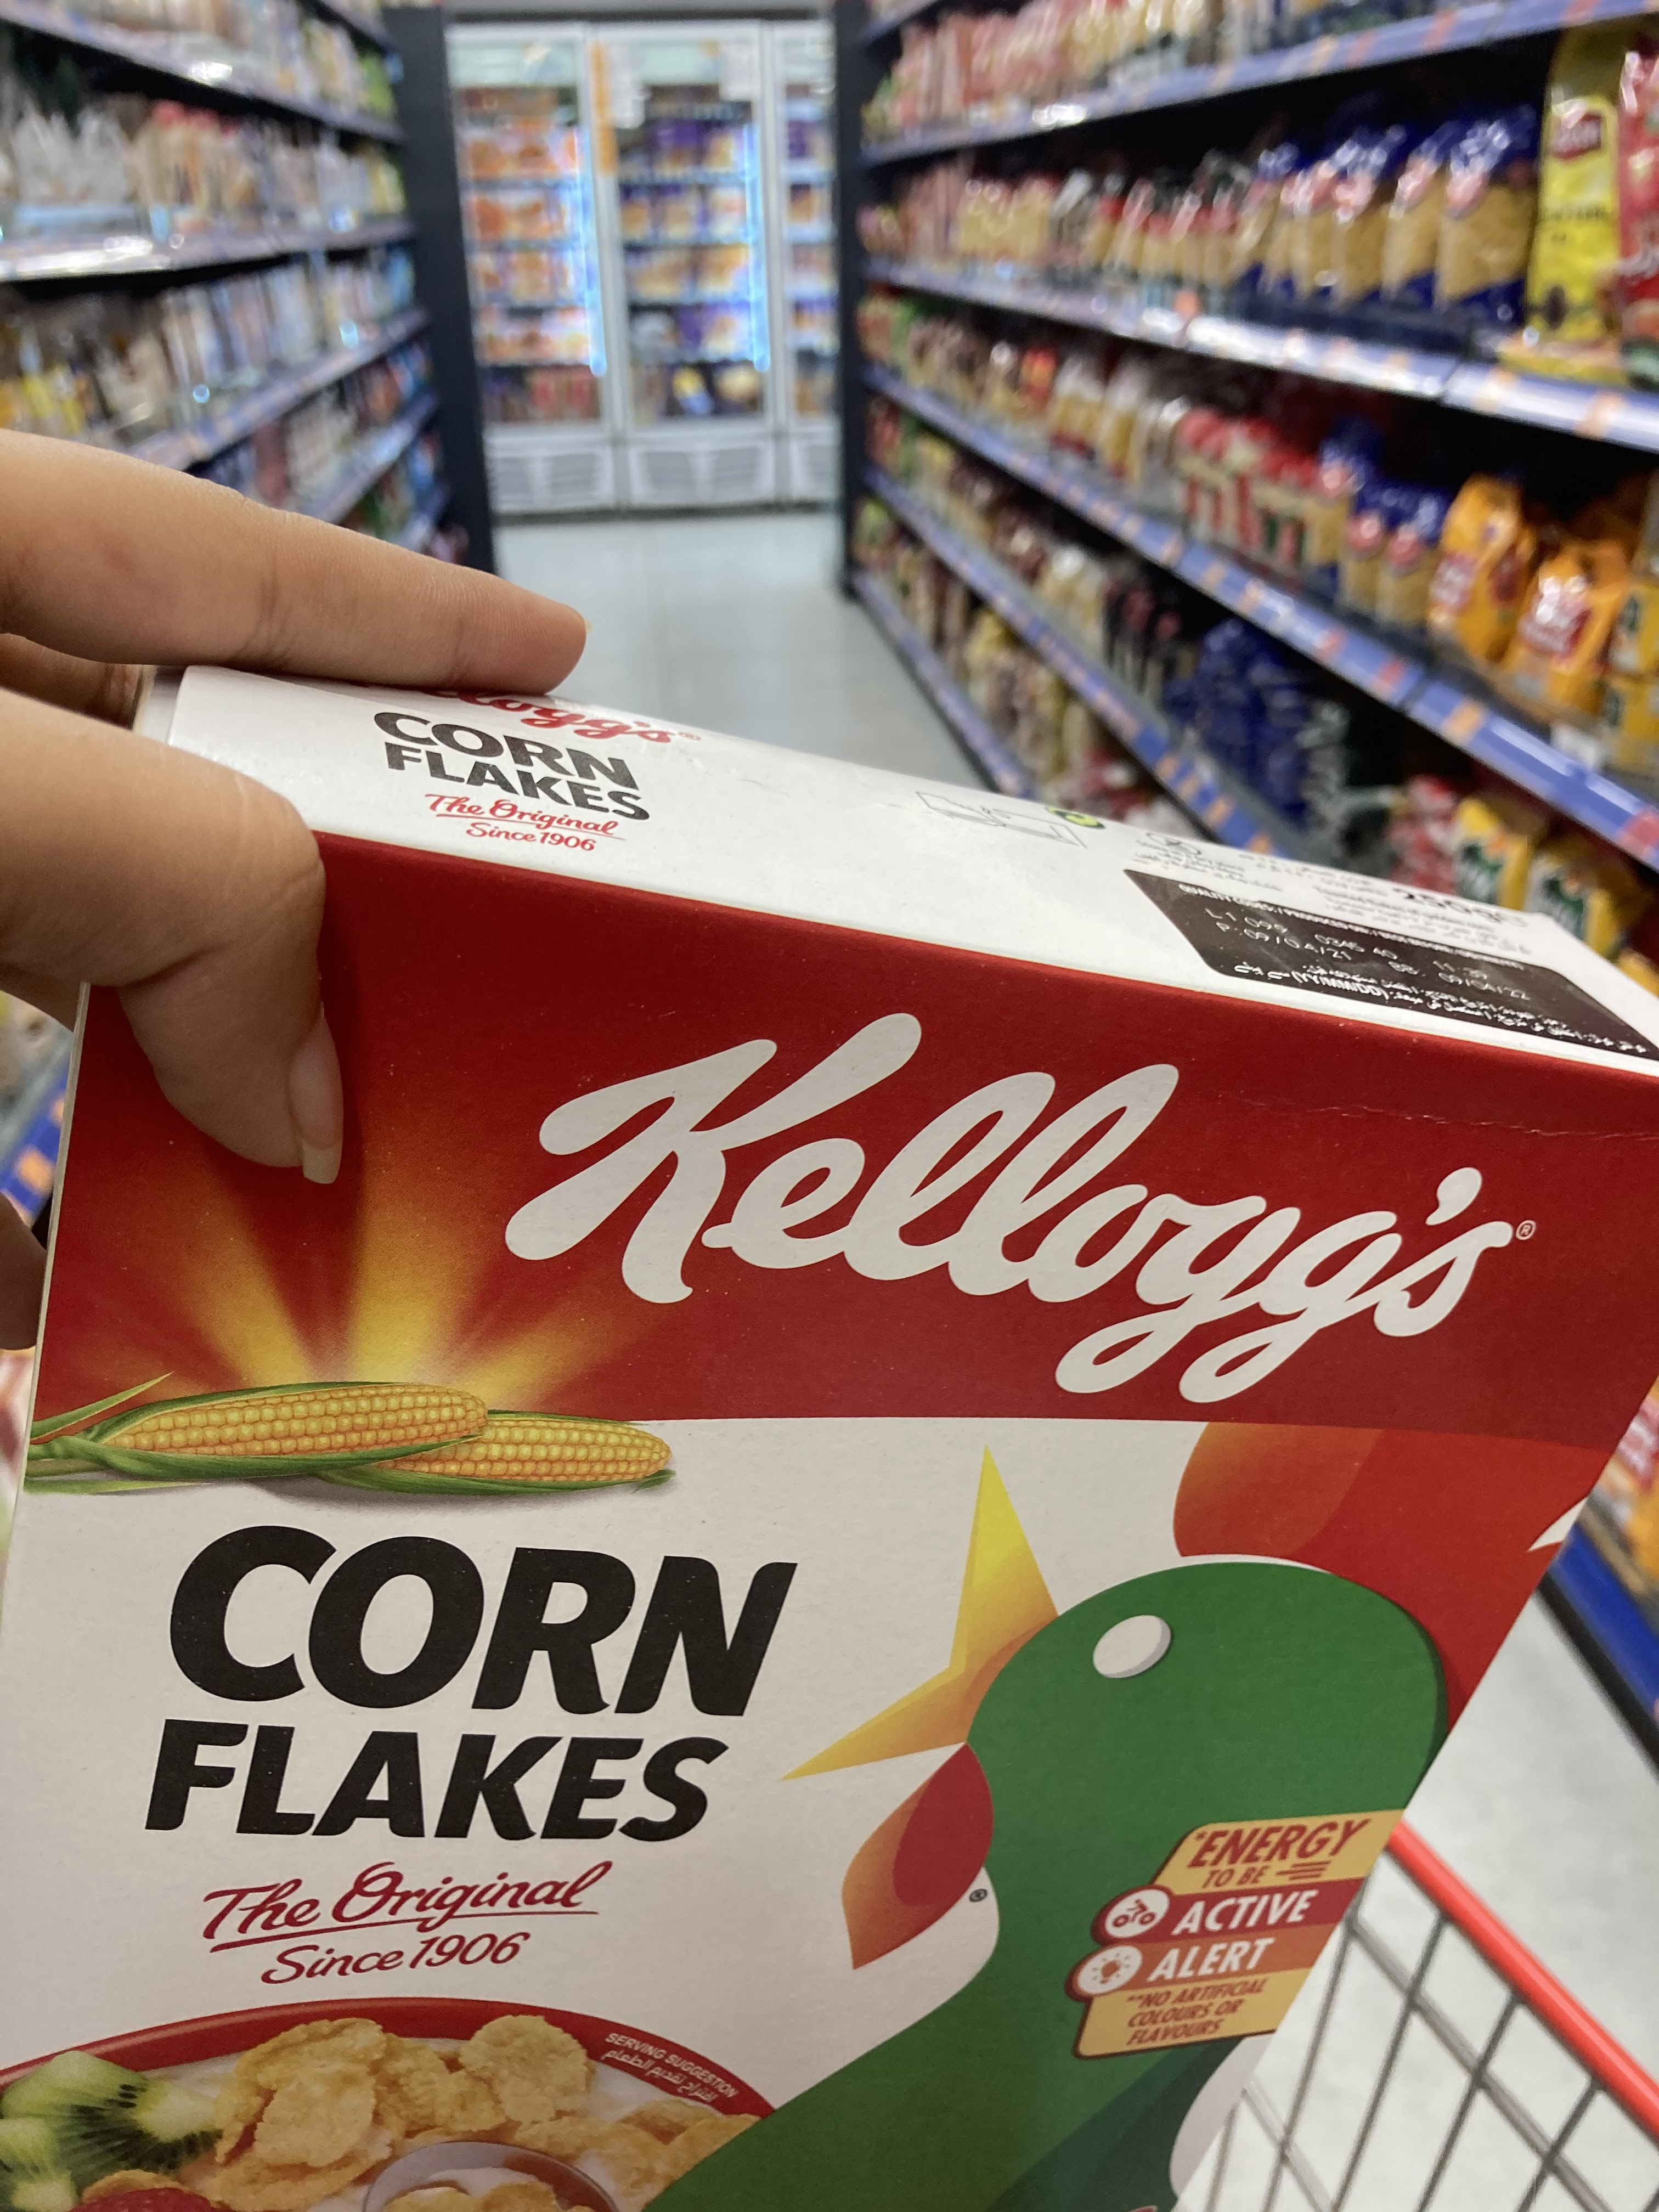Kellogg's Corn Flakes: (12, 636, 1659, 2212)
